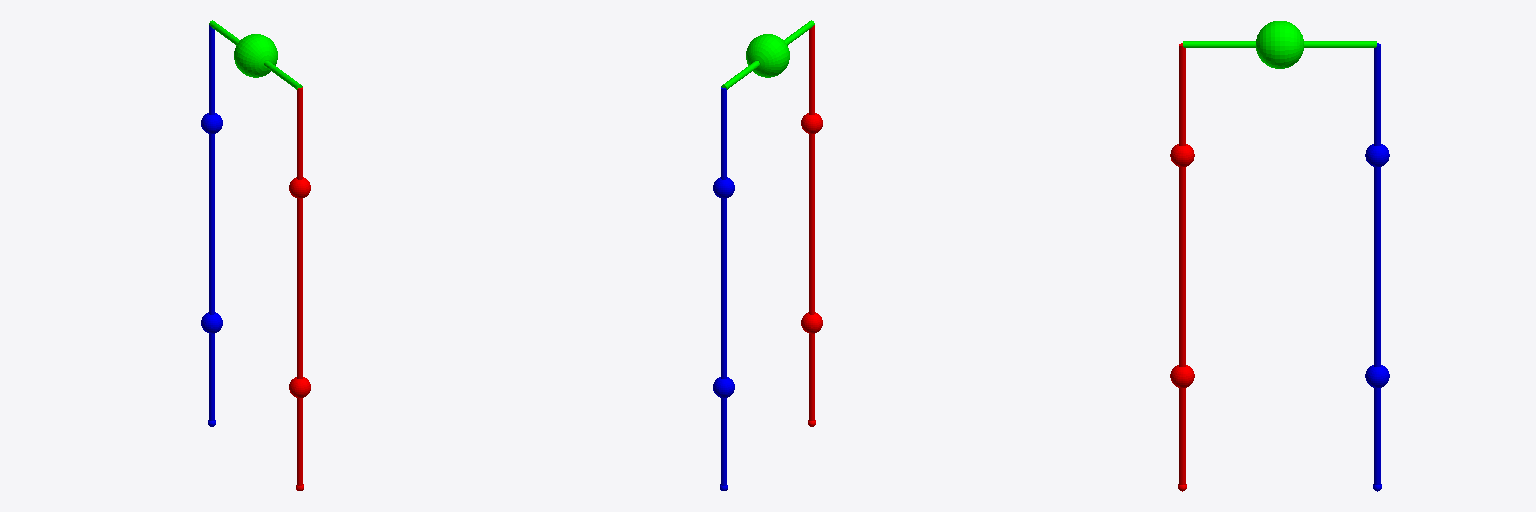
robot.urdf — KneedCompassGait:
<?xml version="1.0" ?>

<robot  name="KneedCompassGait">
    <link name="base_link"/>
    <joint name="base" type="fixed">
        <origin xyz="0 0 0" rpy="1.5708 0 0"/>
        <child link="hip_line"/>
        <parent link="base_link"/>
    </joint>
    <link name="hip_line">
        <visual>
            <origin xyz="0 0 0" rpy="0 0 0"/>
            <geometry>
                <cylinder length="0.4" radius="0.0075"/>
            </geometry>
            <material name="green">
                <color rgba="0 1 0 1"/>
            </material>
        </visual>
    </link>
    <link name="right_hip2roll"/>
    <link name="left_hip2roll"/>

    <link name="left_upper_leg">
        <visual>
            <origin xyz="0 0 -0.25" rpy="0 0 0"/>
            <geometry>
                <cylinder length="0.5" radius="0.0075"/>
            </geometry>
            <material name="red">
                <color rgba="1 0 0 1"/>
            </material>
        </visual>
    </link>
    <link name="left_upper_leg_mass">
        <visual>
            <origin xyz="0 0 -0.25"/>
            <geometry>
                <sphere radius="0.025"/>
            </geometry>
            <material name="red">
                <color rgba="1 0 0 1"/>
            </material>
        </visual>
        <inertial>
            <origin xyz="0 0 -0.25"/>
            <mass value="2.5"/>
            <inertia ixx="0" ixy="0" ixz="0" iyy="0" iyz="0" izz="0"/>
        </inertial>
    </link>
    <joint name="left_upper_leg_mass_weld" type="fixed">
        <parent link="left_upper_leg"/>
        <child link="left_upper_leg_mass"/>
    </joint>
    <link name="left_lower_leg">
        <visual>
            <origin xyz="0 0 -0.25"/>
            <geometry>
                <cylinder length="0.5" radius="0.0075"/>
            </geometry>
            <material name="red">
                <color rgba="1 0 0 1"/>
            </material>
        </visual>
        <visual>
            <origin xyz="0 0 -0.5" />
            <geometry>
                <sphere radius="0.01"/>
            </geometry>
            <material name="red">
                <color rgba="1 0 0 1"/>
            </material>
        </visual>
        <collision>
            <origin xyz="0 0 -0.5"/>
            <geometry>
                <sphere radius="0"/>
            </geometry>
        </collision>
<!--        <visual>-->
<!--            <origin xyz="-0.01 0 -0.5" />-->
<!--            <geometry>-->
<!--                <sphere radius="0.01"/>-->
<!--            </geometry>-->
<!--            <material name="red">-->
<!--                <color rgba="1 0 0 1"/>-->
<!--            </material>-->
<!--        </visual>-->
<!--        <collision>-->
<!--            <origin xyz="-0.01 0 -0.5"/>-->
<!--            <geometry>-->
<!--                <sphere radius="0"/>-->
<!--            </geometry>-->
<!--        </collision>-->
    </link>
    <link name="left_lower_leg_mass">
        <visual>
            <origin xyz="0 0 -0.25"/>
            <geometry>
                <sphere radius="0.025"/>
            </geometry>
            <material name="red">
                <color rgba="1 0 0 1"/>
            </material>
        </visual>
        <inertial>
            <origin xyz="0 0 -0.25"/>
            <mass value="2.5"/>
            <inertia ixx="0" ixy="0" ixz="0" iyy="0" iyz="0" izz="0"/>
        </inertial>
    </link>
    <joint name="left_lower_leg_mass_weld" type="fixed">
        <parent link="left_lower_leg"/>
        <child link="left_lower_leg_mass"/>
    </joint>
    <link name="right_upper_leg">
        <visual>
            <origin xyz="0 0 -0.25" rpy="0 0 0"/>
            <geometry>
                <cylinder length="0.5" radius="0.0075"/>
            </geometry>
            <material name="blue">
                <color rgba="0 0 1 1"/>
            </material>
        </visual>
    </link>
    <link name="right_upper_leg_mass">
        <visual>
            <origin xyz="0 0 -0.25"/>
            <geometry>
                <sphere radius="0.025"/>
            </geometry>
            <material name="blue">
                <color rgba="0 0 1 1"/>
            </material>
        </visual>
        <inertial>
            <origin xyz="0 0 -0.25"/>
            <mass value="2.5"/>
            <inertia ixx="0" ixy="0" ixz="0" iyy="0" iyz="0" izz="0"/>
        </inertial>
    </link>
    <joint name="right_upper_leg_mass_weld" type="fixed">
        <parent link="right_upper_leg"/>
        <child link="right_upper_leg_mass"/>
    </joint>
    <link name="right_lower_leg">
        <visual>
            <origin xyz="0 0 -0.25"/>
            <geometry>
                <cylinder length="0.5" radius="0.0075"/>
            </geometry>
            <material name="blue">
                <color rgba="0 0 1 1"/>
            </material>
        </visual>
        <visual>
            <origin xyz="0 0 -0.5" />
            <geometry>
                <sphere radius="0.01"/>
            </geometry>
            <material name="blue">
                <color rgba="0 0 1 1"/>
            </material>
        </visual>
        <collision>
            <origin xyz="0 0 -0.5"/>
            <geometry>
                <sphere radius="0"/>
            </geometry>
        </collision>
<!--        <visual>-->
<!--            <origin xyz="-0.01 0 -0.5" />-->
<!--            <geometry>-->
<!--                <sphere radius="0.01"/>-->
<!--            </geometry>-->
<!--            <material name="blue">-->
<!--                <color rgba="0 0 1 1"/>-->
<!--            </material>-->
<!--        </visual>-->
<!--        <collision>-->
<!--            <origin xyz="-0.01 0 -0.5"/>-->
<!--            <geometry>-->
<!--                <sphere radius="0"/>-->
<!--            </geometry>-->
<!--        </collision>-->
    </link>
    <link name="right_lower_leg_mass">
        <visual>
            <origin xyz="0 0 -0.25"/>
            <geometry>
                <sphere radius="0.025"/>
            </geometry>
            <material name="blue">
                <color rgba="0 0 1 1"/>
            </material>
        </visual>
        <inertial>
            <origin xyz="0 0 -0.25"/>
            <mass value="2.5"/>
            <inertia ixx="0" ixy="0" ixz="0" iyy="0" iyz="0" izz="0"/>
        </inertial>
    </link>
    <joint name="right_lower_leg_mass_weld" type="fixed">
        <parent link="right_lower_leg"/>
        <child link="right_lower_leg_mass"/>
    </joint>

    <link name="hip_mass">
        <inertial>
            <origin xyz="0 0 0"/>
            <mass value="10"/>
            <inertia ixx="0" ixy="0" ixz="0" iyy="0" iyz="0" izz="0"/>
        </inertial>
        <visual>
            <origin xyz="0 0 0"/>
            <geometry>
                <sphere radius="0.05"/>
            </geometry>
            <material name="green">
                <color rgba="0 1 0 1"/>
            </material>
        </visual>
    </link>
    <joint name="hip_mass_weld" type="fixed">
        <child link="hip_mass"/>
        <parent link="hip_line"/>
    </joint>

    <joint name="leftHip_roll" type="continuous">
        <origin xyz="0 0 0.2" rpy="-1.5708 0 0"/>
        <parent link="hip_line"/>
        <child link="left_hip2roll"/>
        <axis xyz="1 0 0"/>
<!--        <limit effort="200" velocity="100"/> -->
    </joint>
    <joint name="rightHip_roll" type="continuous">
        <origin xyz="0 0 -0.2" rpy="-1.5708 0 0"/>
        <parent link="hip_line"/>
        <child link="right_hip2roll"/>
        <axis xyz="1 0 0"/>
<!--        <limit effort="200" velocity="100"/> -->
    </joint>

    <joint name="leftHip_pin" type="continuous">
        <parent link="left_hip2roll"/>
        <child link="left_upper_leg"/>
        <axis xyz="0 1 0"/>
<!--        <limit effort="200" velocity="100"/> -->
    </joint>
    <joint name="rightHip_pin" type="continuous">
        <parent link="right_hip2roll"/>
        <child link="right_upper_leg"/>
        <axis xyz="0 1 0"/>
<!--        <limit effort="200" velocity="100"/> -->
    </joint>

    <joint name="left_knee_pin" type="revolute">
        <parent link="left_upper_leg"/>
        <child link="left_lower_leg"/>
        <axis xyz="0 1 0"/>
        <origin xyz="0 0 -0.5"/>
<!--        <limit upper = "0" lower="-3.14" effort="1000" velocity="100"/> -->
    </joint>
    <joint name="right_knee_pin" type="revolute">
        <parent link="right_upper_leg"/>
        <child link="right_lower_leg"/>
        <axis xyz="0 1 0"/>
        <origin xyz="0 0 -0.5"/>
<!--        <limit upper="0" lower="-3.14" effort="1000" velocity="100"/> -->
    </joint>

    <transmission name="leftHip_rollTrans" type="SimpleTransmission">
        <actuator name="left_hip_roll_torque"/>
        <joint name="leftHip_roll"/>
        <mechanicalReduction>1</mechanicalReduction>
    </transmission>
    <transmission name="rightHip_rollTrans" type="SimpleTransmission">
        <actuator name="right_hip_roll_torque"/>
        <joint name="rightHip_roll"/>
        <mechanicalReduction>1</mechanicalReduction>
    </transmission>
    <transmission name="leftHip_pinTrans" type="SimpleTransmission">
        <actuator name="left_hip_pin_torque"/>
        <joint name="leftHip_pin"/>
        <mechanicalReduction>1</mechanicalReduction>
    </transmission>
    <transmission name="rightHip_pinTrans" type="SimpleTransmission">
        <actuator name="right_hip_pin_torque"/>
        <joint name="rightHip_pin"/>
        <mechanicalReduction>1</mechanicalReduction>
    </transmission>
    <transmission name="left_knee_trans" type="SimpleTransmission">
        <actuator name="left_knee_torque"/>
        <joint name="left_knee_pin"/>
        <mechanicalReduction>1</mechanicalReduction>
    </transmission>
    <transmission name="right_knee_trans" type="SimpleTransmission">
        <actuator name="right_knee_torque"/>
        <joint name="right_knee_pin"/>
        <mechanicalReduction>1</mechanicalReduction>
    </transmission>
</robot>

--- What the picture shows (computed from the rendered views, not written in the file) ---
Views: 3 orthographic renders of the robot side by side, from view 1: azimuth 30°, elevation 25°; view 2: azimuth 150°, elevation 25°; view 3: azimuth 270°, elevation 25°.
Model KneedCompassGait with 13 links and 12 joints (2 revolute, 4 continuous, 6 fixed), rooted at base_link, posed every joint at zero.
Links seen in each view (by area): view 1: hip_mass, left_lower_leg, right_lower_leg, left_upper_leg, right_upper_leg; view 2: hip_mass, right_lower_leg, left_lower_leg, right_upper_leg, left_upper_leg; view 3: hip_mass, left_lower_leg, right_lower_leg, left_upper_leg, right_upper_leg, hip_line.
Link boxes in pixels (<box>): hip_mass: <box>234,34,277,77</box>; left_lower_leg: <box>296,288,303,490</box>; right_lower_leg: <box>208,224,215,426</box>; left_upper_leg: <box>297,87,302,288</box>; right_upper_leg: <box>209,25,214,223</box>; hip_mass: <box>746,34,789,77</box>; right_lower_leg: <box>720,288,727,490</box>; left_lower_leg: <box>808,224,815,426</box>; right_upper_leg: <box>721,87,726,288</box>; left_upper_leg: <box>809,25,814,223</box>; hip_mass: <box>1256,21,1303,68</box>; left_lower_leg: <box>1178,267,1186,491</box>; right_lower_leg: <box>1373,267,1381,491</box>; left_upper_leg: <box>1179,43,1185,266</box>; right_upper_leg: <box>1374,43,1380,266</box>; hip_line: <box>1183,41,1376,47</box>.
Bounding box of the posed robot: 0.1 × 0.45 × 1.06 m (x, y, z).
Geometry: primitives only (box / cylinder / sphere), no mesh files.
